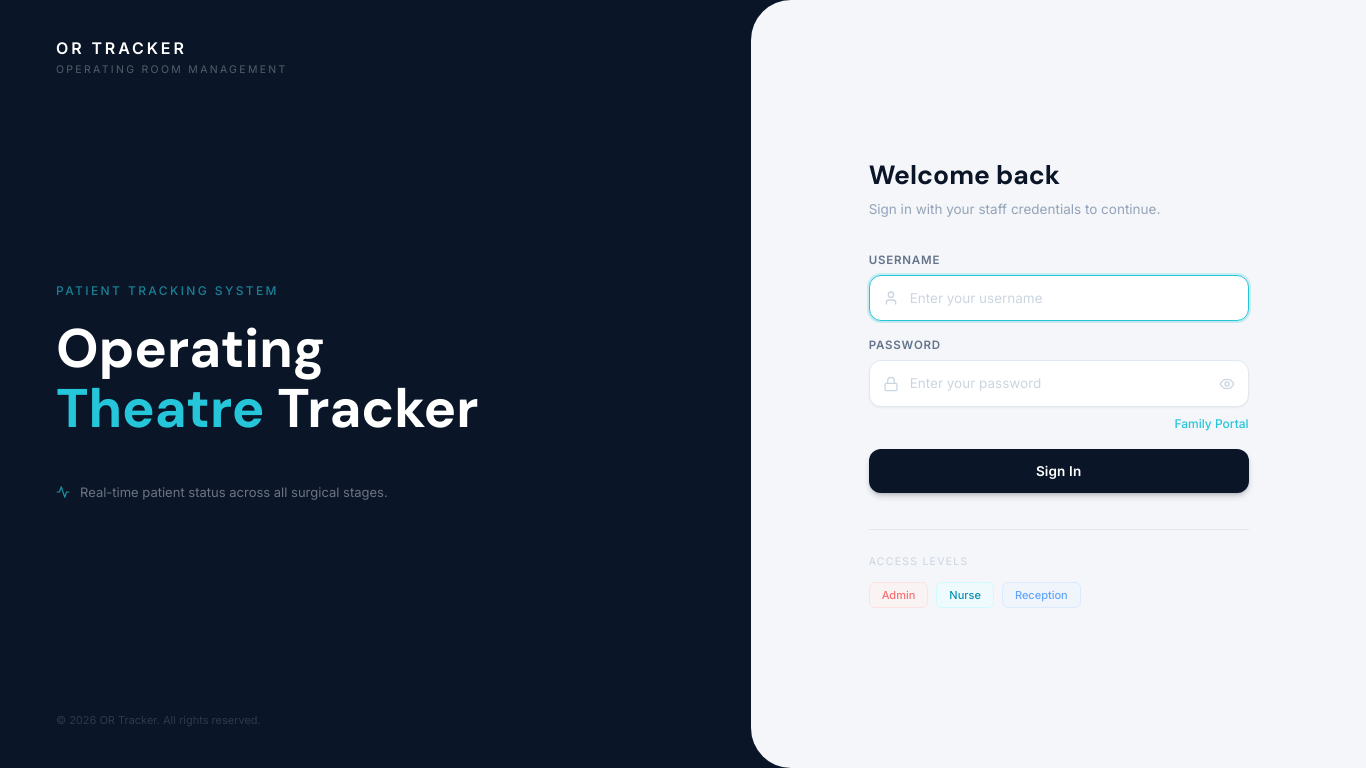
Test: LoginPage › submit button is disabled while loading
Type "admin1" into the field with placeholder "Enter your username" at coordinates (1059, 298), box [869,275,1249,321]
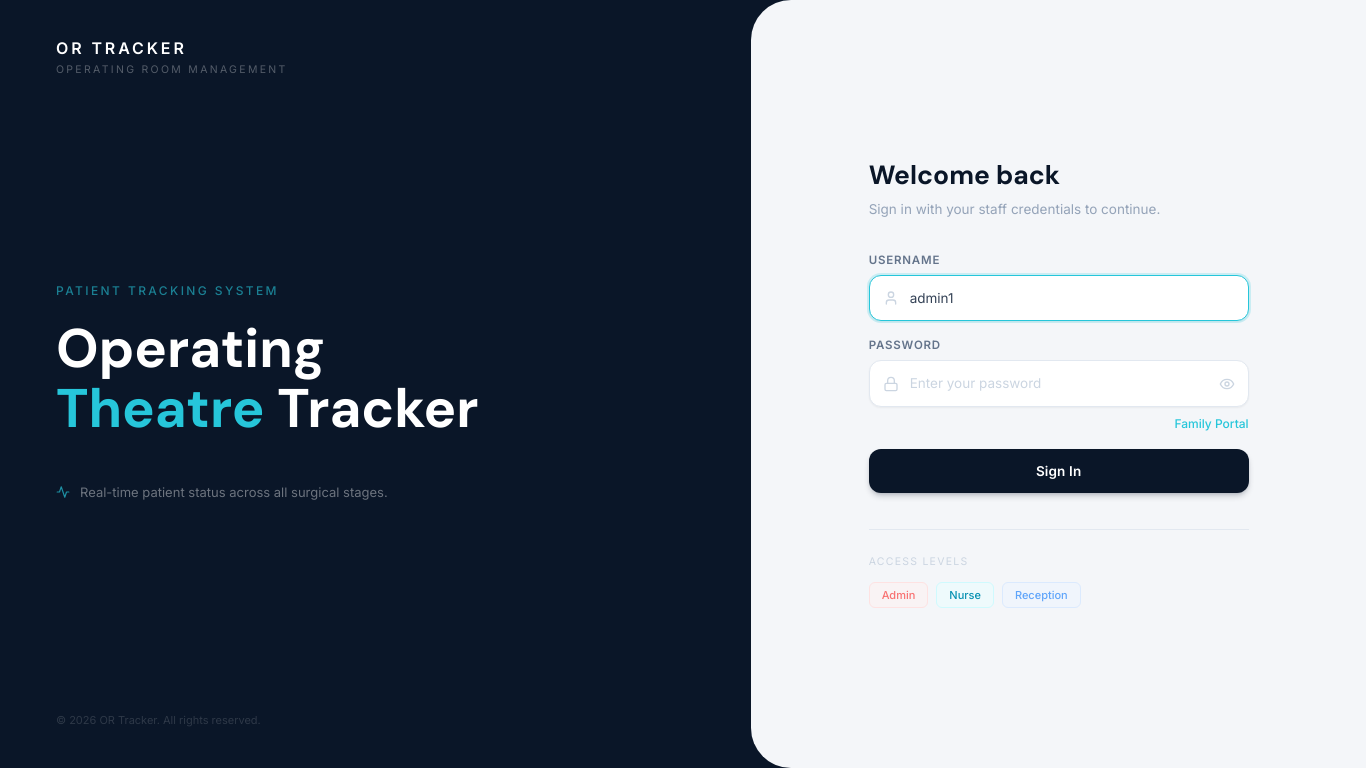
Type "pass" into the password field with placeholder "Enter your password" at coordinates (1059, 384), box [869,360,1249,407]
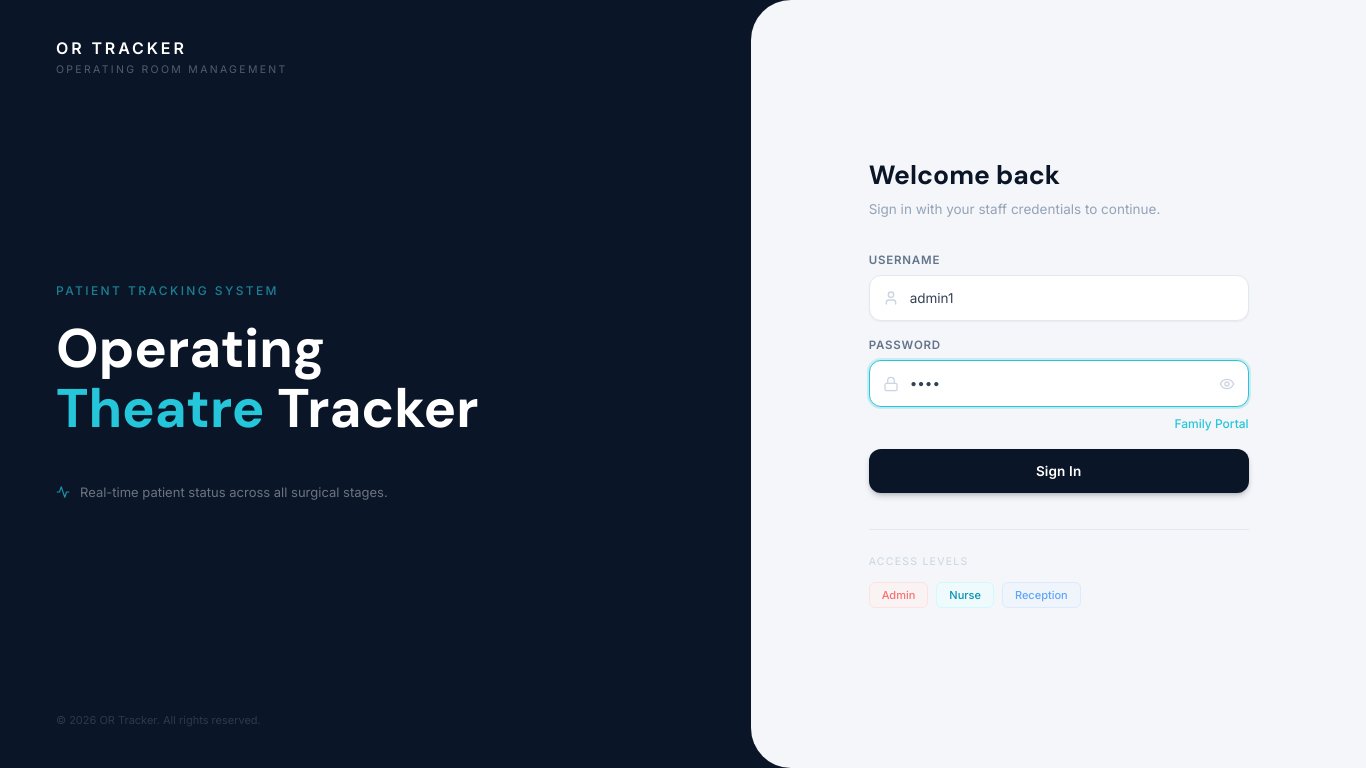
Click the button "Sign In" at coordinates (1059, 471), box [869,449,1249,493]
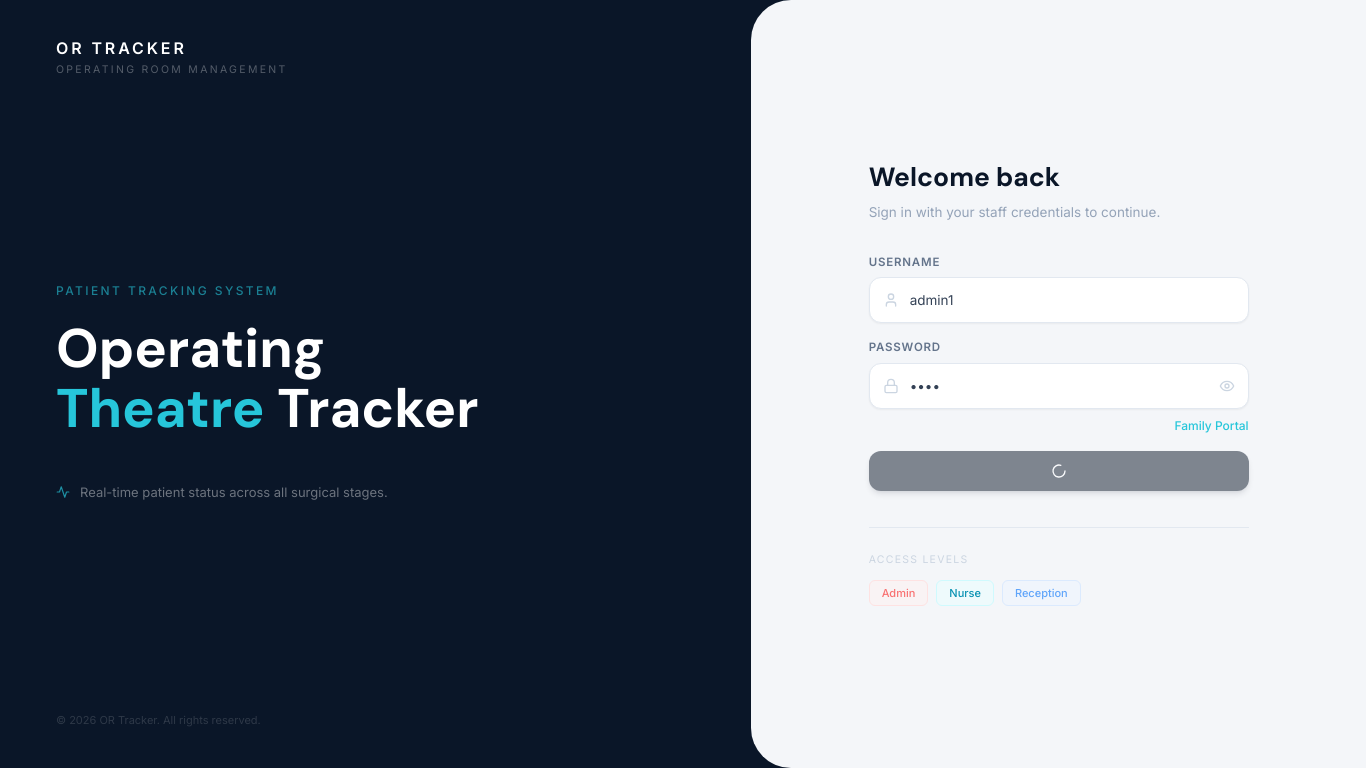
Expected: the 2nd button "Sign In" is disabled, [869,451,1249,491]
